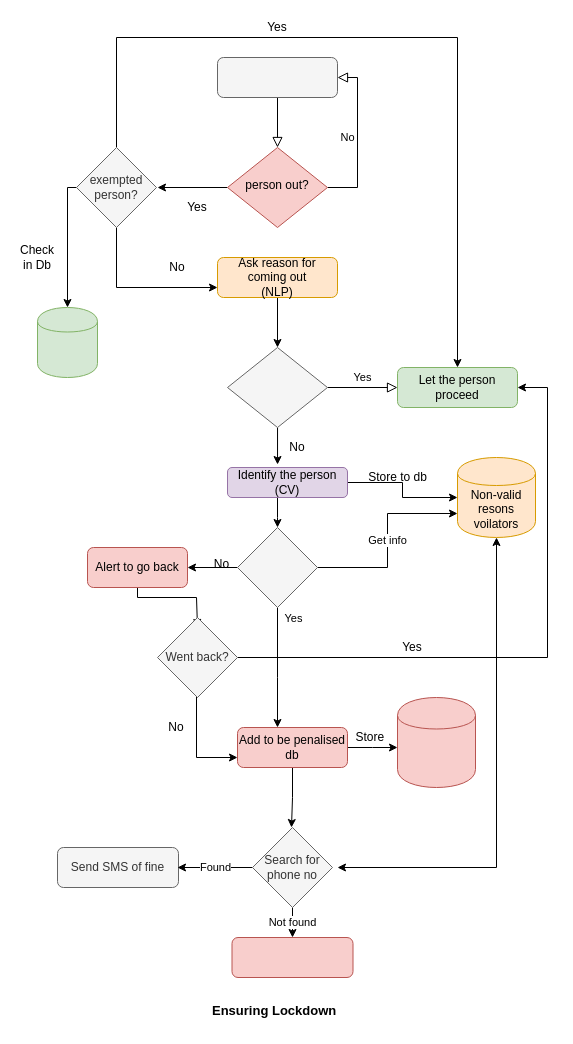
Image size: 573x1044. Some labels were removed from this diagram. Each missing label, with the centre of its shape:
Alert police: [292,957]
check if violated earlier: [277,567]
Exempted people: [67,342]
Penalized breakers: [436,742]
Record through CCTV's (still, UAV): [277,77]
Valid Reason: [277,387]
